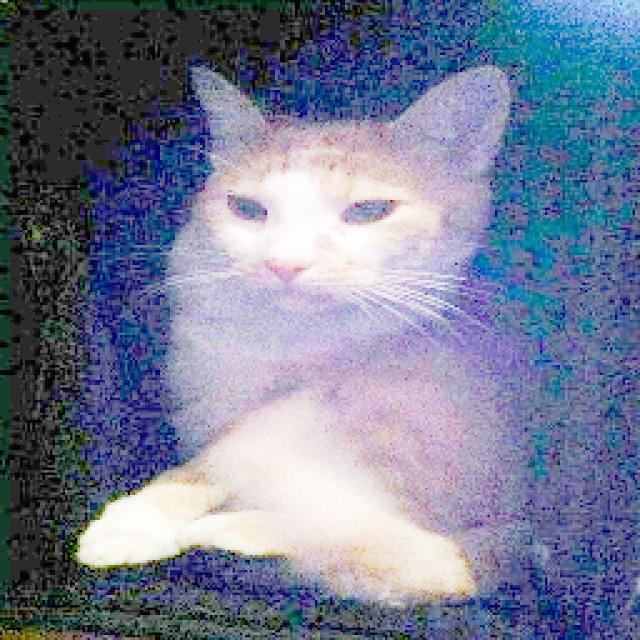cat: (91, 42, 588, 637)
